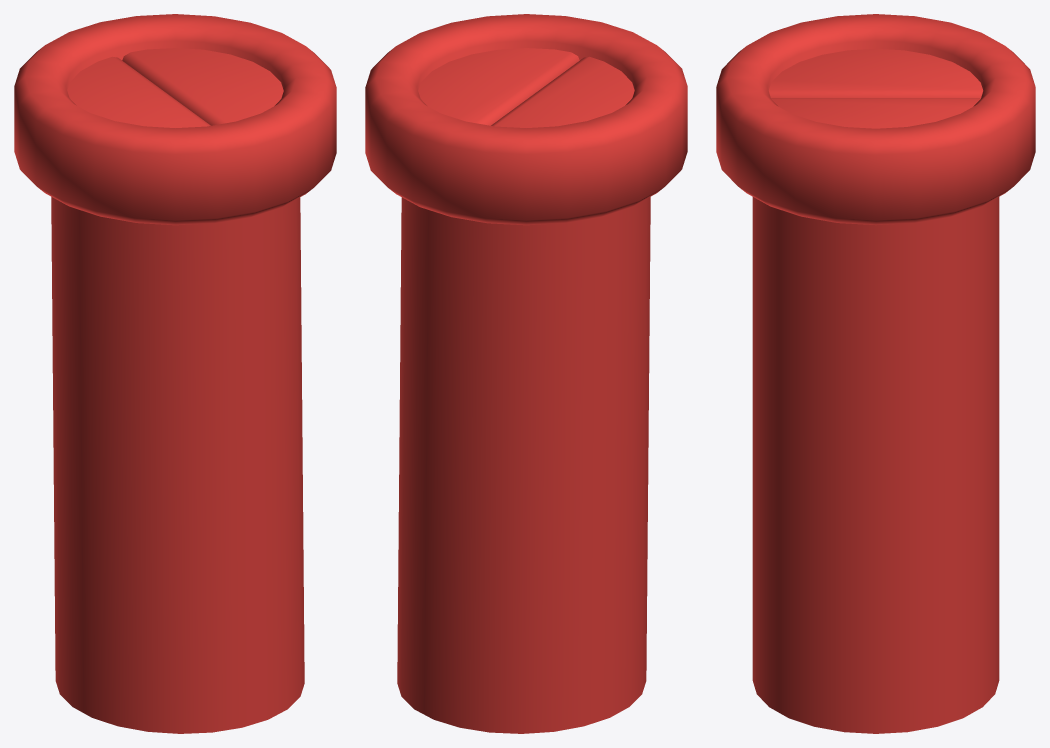
The model's file is exit_tube.fbx.
3 views of the same model, side by side, from view 1: azimuth 30°, elevation 25°; view 2: azimuth 150°, elevation 25°; view 3: azimuth 270°, elevation 25° (orthographic).
Visible parts, largest first — view 1: exit_tube, exit_tube_R, exit_tube_L; view 2: exit_tube, exit_tube_R, exit_tube_L; view 3: exit_tube, exit_tube_L, exit_tube_R.
Part boxes in pixels (<box>): exit_tube: <box>14,14,336,733</box>; exit_tube_R: <box>122,48,283,125</box>; exit_tube_L: <box>67,56,210,127</box>; exit_tube: <box>365,14,687,733</box>; exit_tube_R: <box>418,48,579,125</box>; exit_tube_L: <box>491,56,634,127</box>; exit_tube: <box>716,14,1035,733</box>; exit_tube_L: <box>768,48,983,98</box>; exit_tube_R: <box>771,98,980,128</box>.
Bounding box in the file's own units: 317 × 660 × 317.
